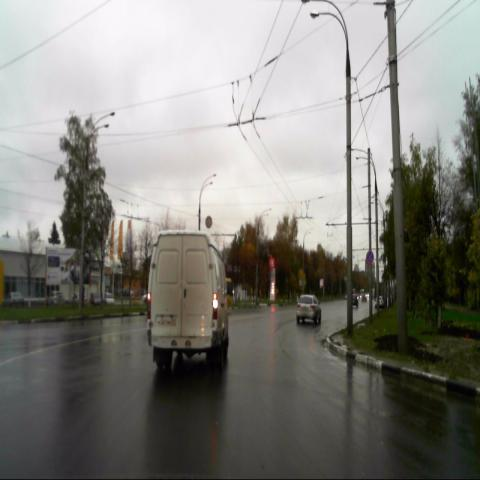3_27: (366, 251, 374, 264)
